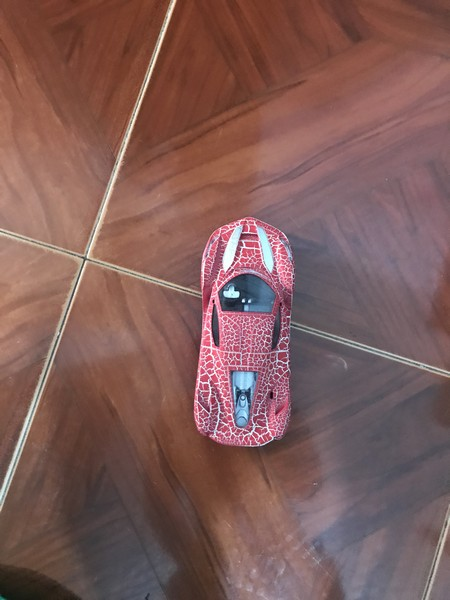RC: (191, 216, 297, 453)
